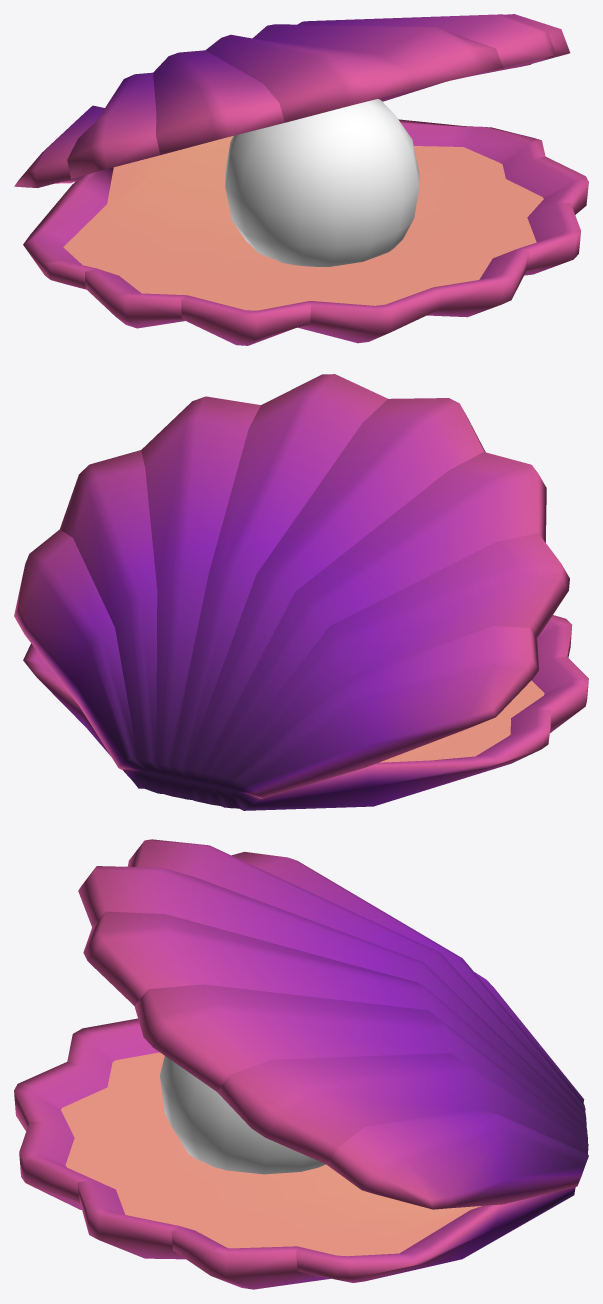
The model's file is Sea_Shell_01.fbx.
3 renders of one model, top to bottom at view 1: azimuth 30°, elevation 25°; view 2: azimuth 150°, elevation 25°; view 3: azimuth 270°, elevation 25°, orthographic. The views are drawn at different scales.
Visible parts, largest first — view 1: Sea_Shell_01; view 2: Sea_Shell_01; view 3: Sea_Shell_01.
Boxes of the visible parts, x1=… form: Sea_Shell_01: x1=14, y1=14, x2=588, y2=345; Sea_Shell_01: x1=14, y1=374, x2=588, y2=810; Sea_Shell_01: x1=14, y1=839, x2=588, y2=1289.
Size of the model in its own units: 101 by 58.95 by 92.37.
